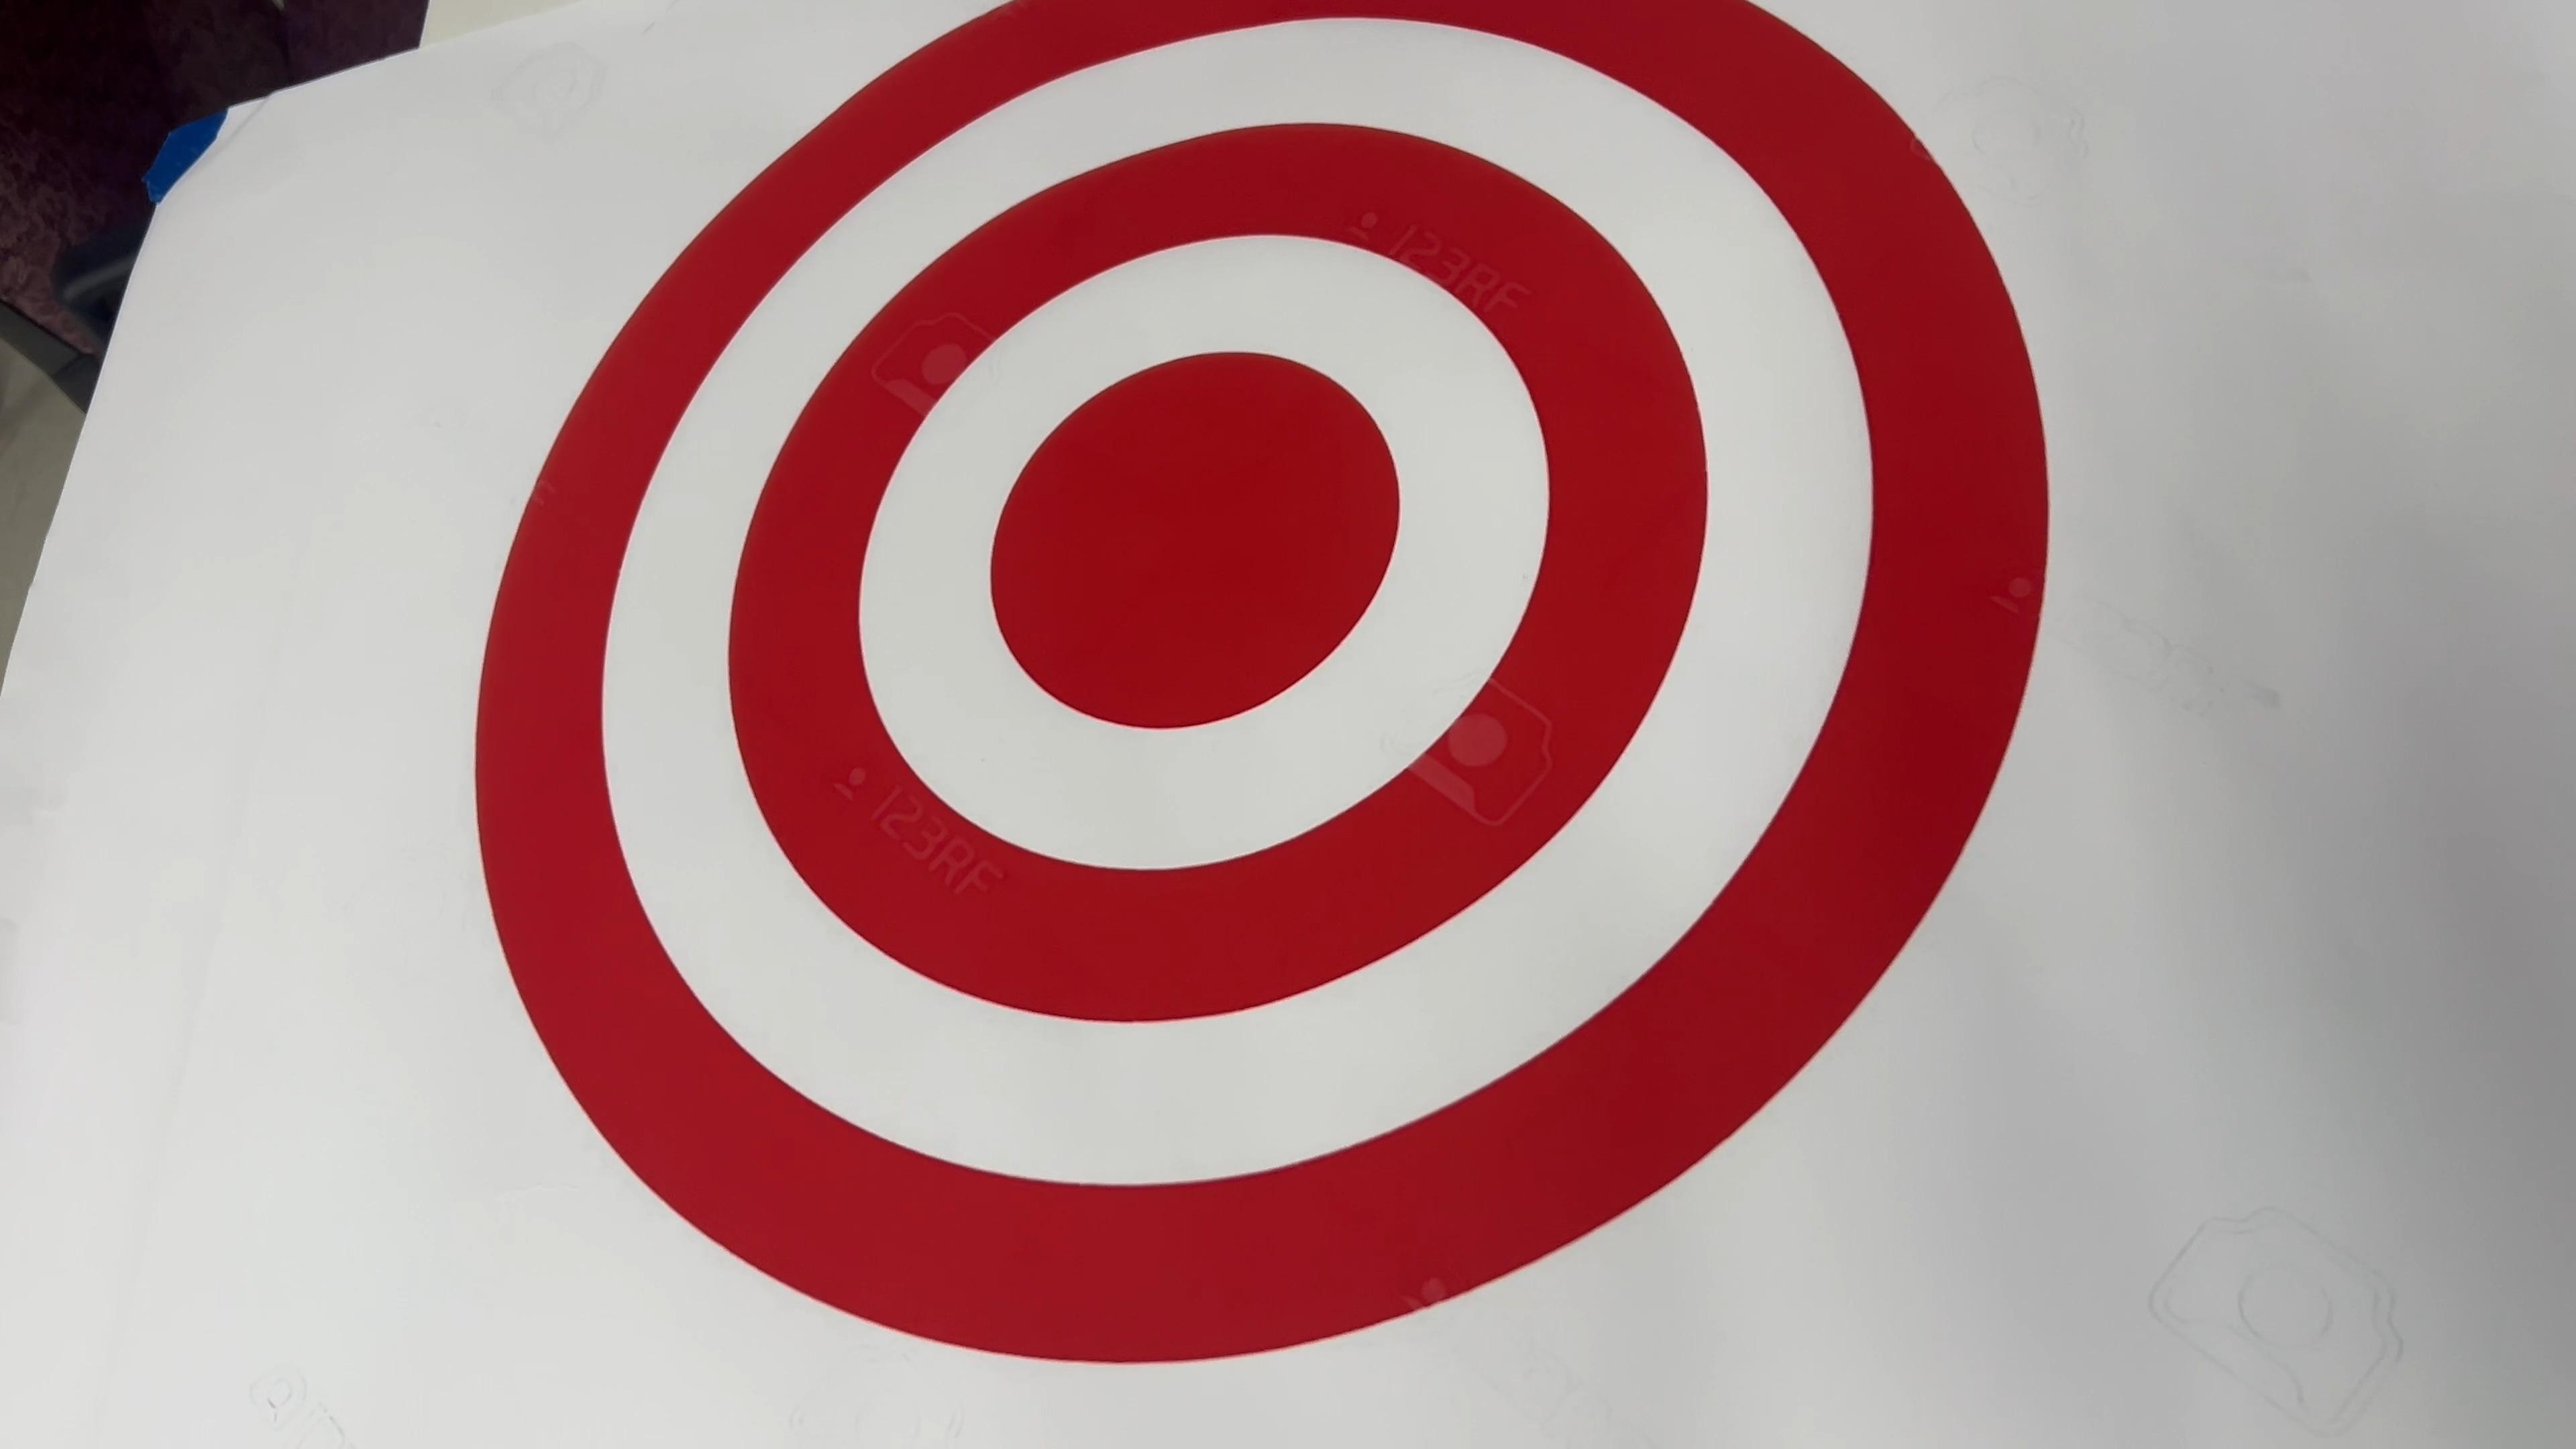target_red: (437, 2, 2109, 1449)
